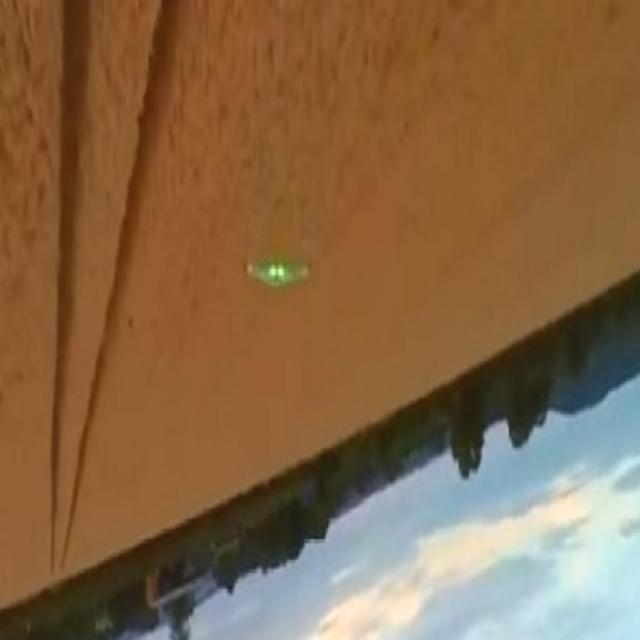plane: (244, 250, 313, 291)
